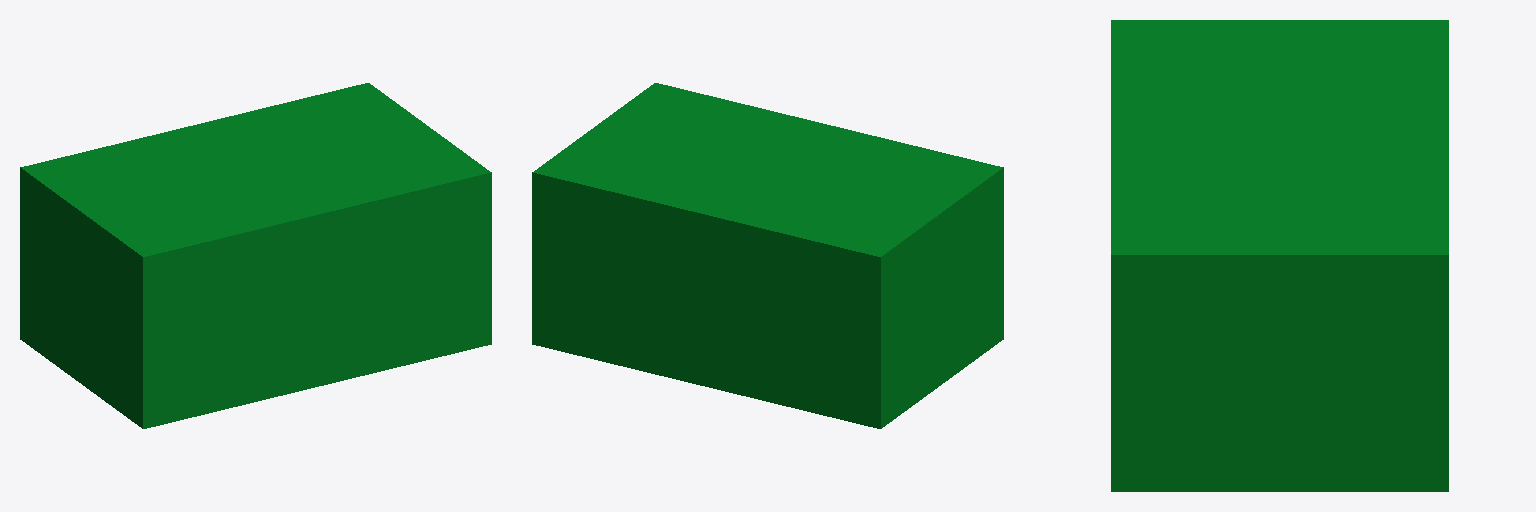
URDF robot description (room315_shuttle_deck):
<?xml version="1.0"?>
<robot name="room315_shuttle_deck">
  <link name="deck_link">
    <visual>
      <origin xyz="-0.078417 0 0" rpy="0 0 0"/>
      <geometry>
        <box size="0.36 0.22 0.17"/>
      </geometry>
      <material name="deck_green">
        <color rgba="0.05 0.55 0.18 0.55"/>
      </material>
    </visual>
    <collision>
      <origin xyz="-0.078417 0 0" rpy="0 0 0"/>
      <geometry>
        <box size="0.36 0.22 0.17"/>
      </geometry>
    </collision>
  </link>
</robot>

--- What the picture shows (computed from the rendered views, not written in the file) ---
3 views of the same robot in one strip: view 1: azimuth 30°, elevation 25°; view 2: azimuth 150°, elevation 25°; view 3: azimuth 270°, elevation 25° (orthographic).
Robot: room315_shuttle_deck — 1 links, 0 joints (none); root link deck_link; default pose: every joint at zero.
Visible links, largest first — view 1: deck_link; view 2: deck_link; view 3: deck_link.
Link boxes in pixels (box(x1,y1,x2,y2)): deck_link: box(20, 83, 491, 428); deck_link: box(532, 83, 1003, 428); deck_link: box(1111, 20, 1448, 491).
Bounding box of the posed robot: 0.36 × 0.22 × 0.17 m (x, y, z).
Geometry: primitives only (box / cylinder / sphere), no mesh files.
